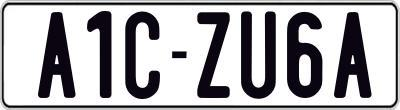1: (84, 9, 108, 97)
6: (284, 9, 319, 100)
A: (331, 12, 370, 104), (35, 10, 76, 97)
C: (125, 12, 163, 102)
U: (240, 10, 280, 99)
Z: (196, 10, 229, 98)
